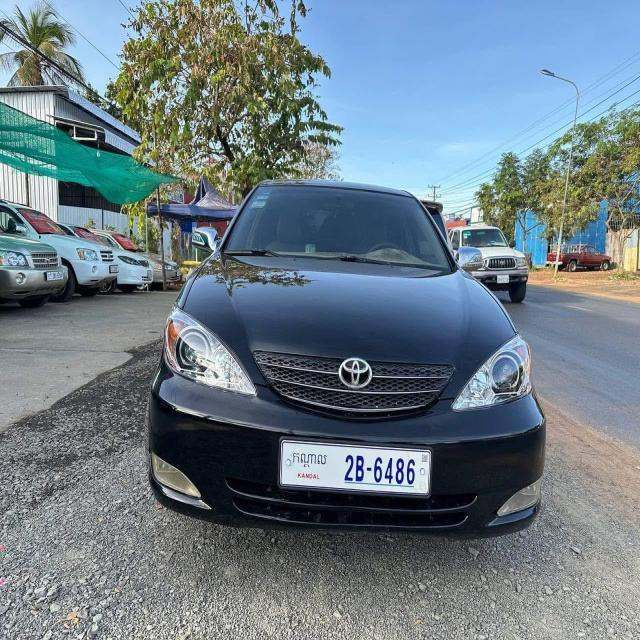Kandal: (291, 450, 328, 472)
